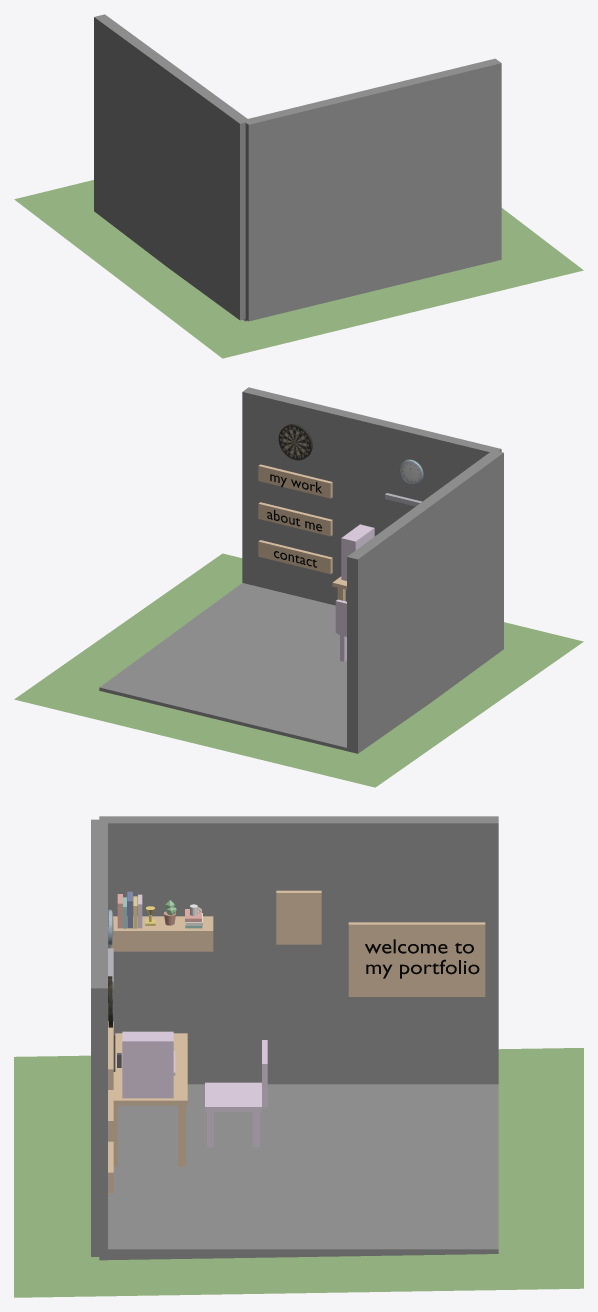
File: myport.glb
3 renders of one model, top to bottom at view 1: azimuth 30°, elevation 25°; view 2: azimuth 150°, elevation 25°; view 3: azimuth 270°, elevation 25°, orthographic. The views are drawn at different scales.
Parts seen in each view (by area): view 1: Room, GrassBase; view 2: Room, GrassBase, NavSignPost_MyWork, NavSignPost_About, NavSignPost_Contact, dartboard, Computer, Chair; view 3: Room, GrassBase, SignBoard, Computer, Shelf, Table, Chair, PictureFrame, welcome, Shelf_BooksStanding.
Part boxes in pixels (left/top/right/bottom): Room: left=94, top=14, right=501, bottom=321; GrassBase: left=14, top=180, right=583, bottom=358; Room: left=99, top=387, right=503, bottom=753; GrassBase: left=14, top=553, right=583, bottom=787; NavSignPost_MyWork: left=258, top=464, right=332, bottom=498; NavSignPost_About: left=258, top=502, right=332, bottom=536; NavSignPost_Contact: left=258, top=540, right=332, bottom=574; dartboard: left=278, top=424, right=312, bottom=460; Computer: left=341, top=524, right=374, bottom=580; Chair: left=335, top=599, right=346, bottom=661; Room: left=91, top=816, right=498, bottom=1260; GrassBase: left=14, top=1048, right=583, bottom=1297; SignBoard: left=348, top=922, right=485, bottom=996; Computer: left=122, top=1031, right=173, bottom=1098; Shelf: left=111, top=916, right=213, bottom=951; Table: left=113, top=1033, right=187, bottom=1166; Chair: left=205, top=1040, right=267, bottom=1147; PictureFrame: left=276, top=890, right=321, bottom=944; welcome: left=365, top=939, right=479, bottom=978; Shelf_BooksStanding: left=117, top=891, right=142, bottom=928.
Bounding box in the file's own units: 5 × 2.67 × 5.
34 materials, 3 textured.
